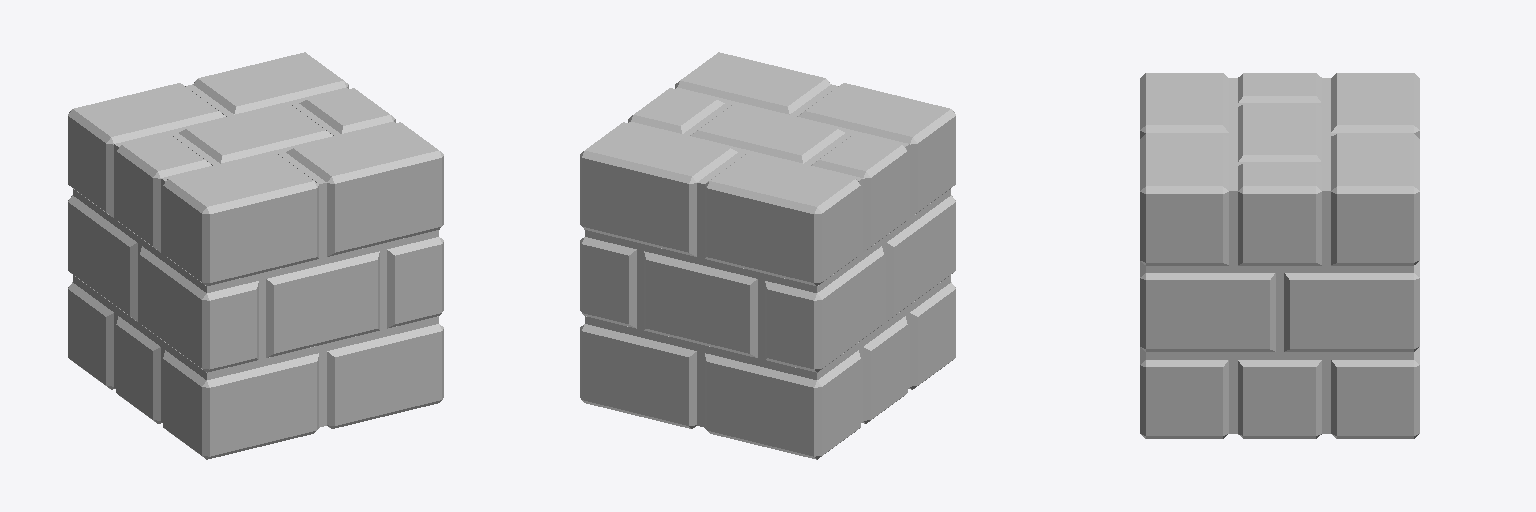
File: Brick Block.obj
3 renders of one model, left to right at view 1: azimuth 30°, elevation 25°; view 2: azimuth 150°, elevation 25°; view 3: azimuth 270°, elevation 25°, orthographic.
Visible parts, largest first — view 1: Brick_Block_-_Bricks_Cube.001, Brick_Block_-_Grooves_Cube; view 2: Brick_Block_-_Bricks_Cube.001, Brick_Block_-_Grooves_Cube; view 3: Brick_Block_-_Bricks_Cube.001, Brick_Block_-_Grooves_Cube.
Part boxes in pixels (x1,y1,x2,y2): Brick_Block_-_Bricks_Cube.001: (68,52,443,459); Brick_Block_-_Grooves_Cube: (73,84,438,427); Brick_Block_-_Bricks_Cube.001: (580,52,955,459); Brick_Block_-_Grooves_Cube: (585,84,950,427); Brick_Block_-_Bricks_Cube.001: (1140,73,1419,438); Brick_Block_-_Grooves_Cube: (1146,78,1413,433).
Size of the model in its own units: 1.76 by 1.75 by 1.76.